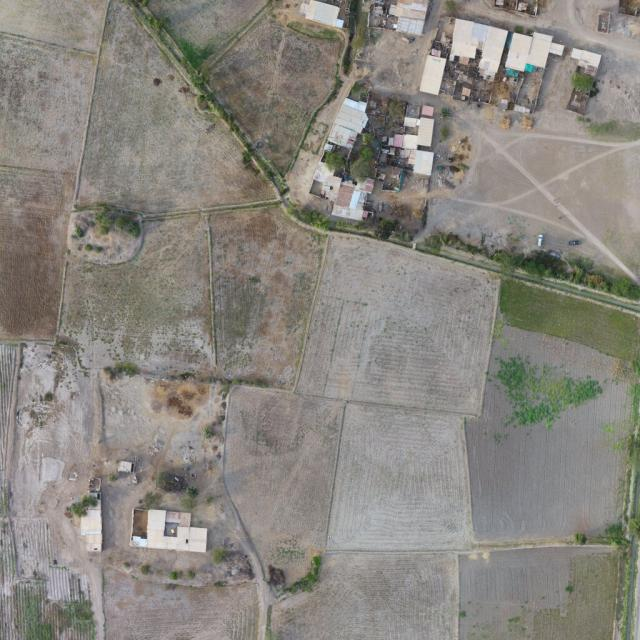agricultural_land: (57, 186, 328, 390), (297, 232, 507, 426), (328, 405, 482, 563)
building: (457, 18, 556, 91), (326, 97, 374, 156), (145, 510, 208, 553), (330, 179, 370, 223), (418, 53, 450, 98), (309, 161, 344, 201), (300, 0, 345, 30), (392, 0, 426, 39), (451, 19, 480, 63), (79, 501, 102, 553), (568, 44, 605, 76), (402, 116, 436, 150), (409, 147, 436, 179), (360, 178, 374, 191), (118, 463, 132, 473), (352, 172, 360, 181)
dryland: (0, 341, 104, 640), (184, 0, 355, 172), (92, 372, 227, 556), (350, 0, 446, 100), (101, 549, 253, 591), (147, 0, 268, 51), (66, 205, 142, 265)
unmetalled_road: (483, 131, 640, 285), (485, 135, 575, 219), (452, 192, 573, 231), (542, 144, 626, 190), (496, 189, 537, 208)
wetland: (451, 276, 640, 564)
